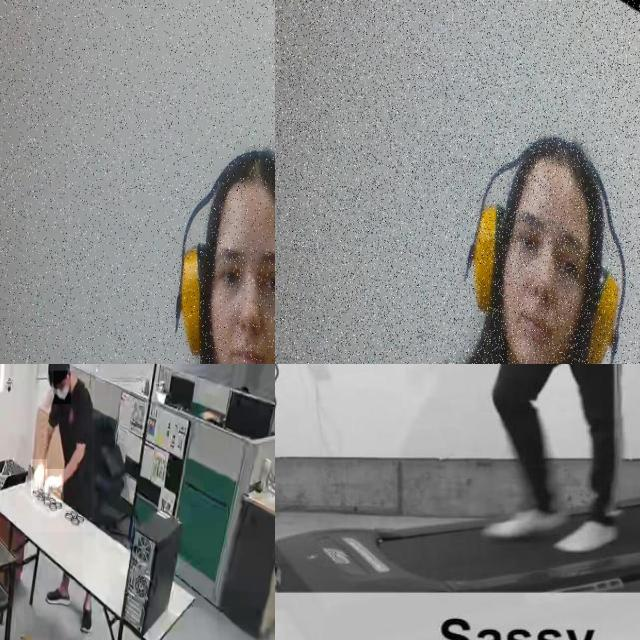Ear-protection: (454, 78, 640, 364), (167, 120, 275, 364)
face_mask: (53, 370, 71, 404)
hand_glove: (45, 469, 64, 503), (31, 459, 47, 497)
head_nohelmet: (47, 364, 69, 372)
person: (479, 364, 640, 553), (32, 364, 95, 532)
shoes: (44, 585, 72, 610), (79, 600, 95, 639)
